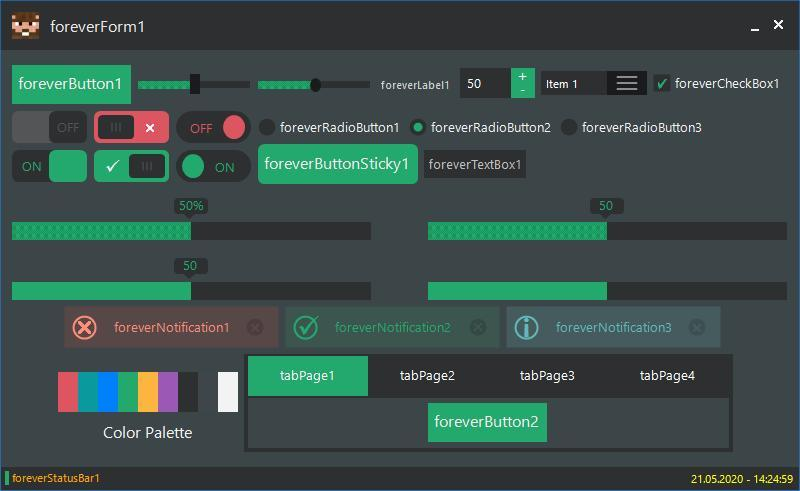button: (259, 146, 419, 183), (14, 65, 134, 106), (427, 402, 546, 443), (249, 359, 368, 396)
checkbox: (652, 74, 672, 94)
icon: (514, 315, 544, 345), (292, 316, 324, 342), (614, 72, 642, 94), (74, 317, 98, 342), (688, 320, 712, 338), (248, 319, 265, 340), (470, 317, 487, 337), (773, 19, 788, 33), (750, 20, 764, 35), (515, 72, 530, 82), (519, 87, 529, 98)
input: (424, 151, 526, 178), (462, 69, 513, 99)
label: (558, 320, 676, 345), (432, 119, 551, 141), (280, 119, 402, 140), (334, 319, 456, 339), (113, 320, 233, 338), (582, 121, 706, 138), (676, 77, 784, 96), (49, 22, 144, 37), (379, 78, 454, 95), (516, 368, 582, 386), (638, 368, 699, 387), (399, 367, 459, 386)
radio: (258, 116, 276, 138), (410, 119, 428, 135), (561, 121, 577, 137)
slider: (4, 218, 384, 245), (425, 220, 794, 246), (7, 284, 382, 305), (427, 282, 790, 302), (257, 73, 372, 99), (138, 76, 255, 98)
switch: (13, 148, 90, 186), (12, 110, 89, 146), (95, 149, 171, 185), (95, 111, 171, 146), (176, 150, 253, 184), (176, 112, 252, 144)
